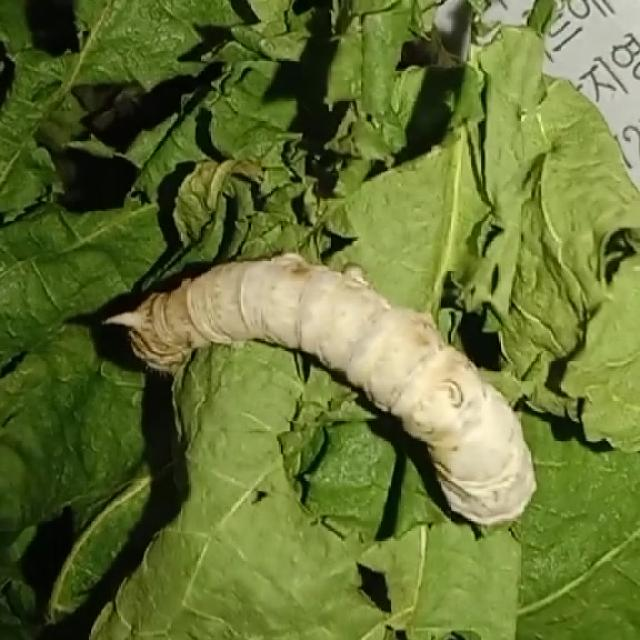Grasserie: (85, 229, 555, 557)
